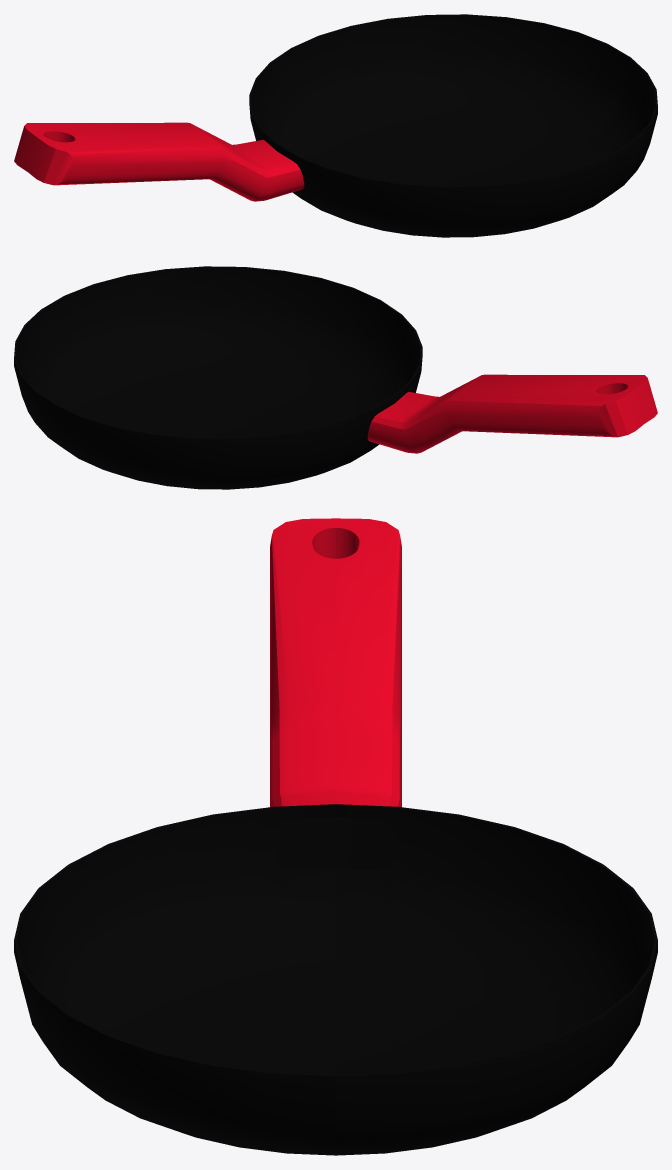
File: Pan.fbx
The picture shows the model from 3 angles, top to bottom: view 1: azimuth 30°, elevation 25°; view 2: azimuth 150°, elevation 25°; view 3: azimuth 270°, elevation 25°; orthographic projection. The views are drawn at different scales.
Visible parts, largest first — view 1: pan; view 2: pan; view 3: pan.
Part boxes in pixels (x1,y1,x2,y2): pan: [14, 14, 657, 237]; pan: [14, 266, 657, 489]; pan: [14, 518, 657, 1155].
Size of the model in its own units: 33.35 by 7.65 by 19.59.
